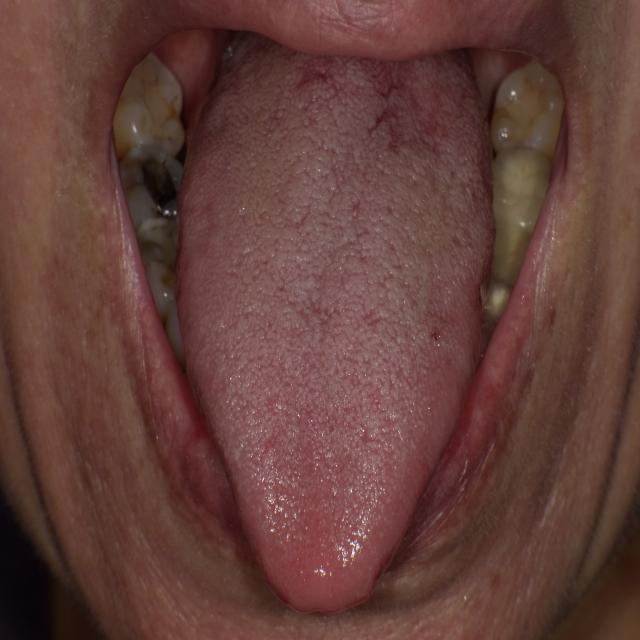baitaishe: (177, 32, 493, 611)
shoushe: (177, 32, 494, 611)
